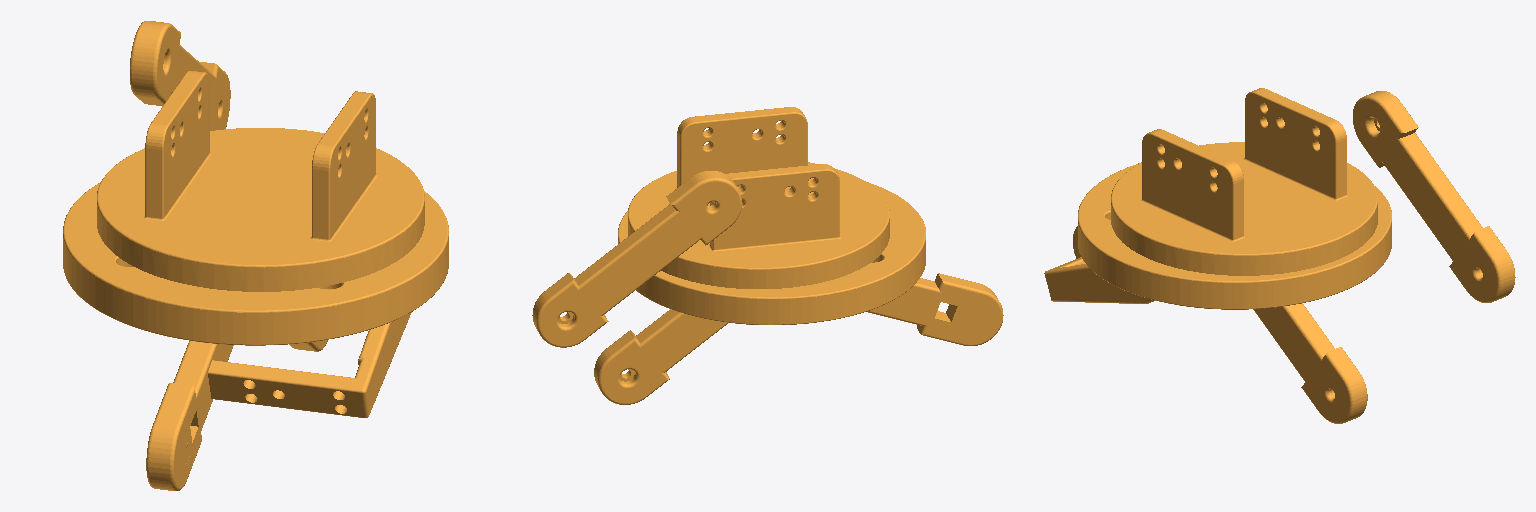
The robot description file, URDF, robot "atom_newurdf":
<?xml version="1.0" encoding="utf-8"?>
<!-- This URDF was automatically created by SolidWorks to URDF Exporter! Originally created by [author] ([email redacted]) 
     Commit Version: 1.5.1-0-g916b5db  Build Version: 1.5.7152.31018
     For more information, please see http://wiki.ros.org/sw_urdf_exporter -->
<robot
  name="atom_newurdf">
  <link
    name="base_link">
    <inertial>
      <origin
        xyz="-2.4727E-05 1.7347E-18 0.0099736"
        rpy="0 0 0" />
      <mass
        value="4.4396" />
      <inertia
        ixx="0.011264"
        ixy="0"
        ixz="-3.9899E-07"
        iyy="0.011256"
        iyz="-1.5376E-19"
        izz="0.022225" />
    </inertial>
    <visual>
      <origin
        xyz="0 0 0"
        rpy="0 0 0" />
      <geometry>
        <mesh
          filename="package://atom_newurdf/meshes/base_link.STL" />
      </geometry>
      <material
        name="acrylic">
        <color
          rgba="1 0.72157 0.32941 1" />
      </material>
    </visual>
    <collision>
      <origin
        xyz="0 0 0"
        rpy="0 0 0" />
      <geometry>
        <mesh
          filename="package://atom_newurdf/meshes/base_link.STL" />
      </geometry>
    </collision>
  </link>
  <link
    name="base2_link">
    <inertial>
      <origin
        xyz="0.0088147 -0.038408 0.045"
        rpy="0 0 0" />
      <mass
        value="3.0365" />
      <inertia
        ixx="0.0062539"
        ixy="-1.7114E-06"
        ixz="9.4868E-20"
        iyy="0.010383"
        iyz="3.9249E-20"
        izz="0.0054148" />
    </inertial>
    <visual>
      <origin
        xyz="0 72 -45"
        rpy="0 0 0" />
      <geometry>
        <mesh
          filename="package://atom_newurdf/meshes/base2_link.STL" />
      </geometry>
      <material
        name="acrylic">
        <color
          rgba="1 0.72157 0.32941 1" />
      </material>
    </visual>
    <collision>
      <origin
        xyz="0 0 0"
        rpy="0 0 0" />
      <geometry>
        <mesh
          filename="package://atom_newurdf/meshes/base2_link.STL" />
      </geometry>
    </collision>
  </link>
  <joint
    name="base2_joint"
    type="revolute">
    <origin
      xyz="-0.037359 0.026585 0.072"
      rpy="1.5708 0 0.7592" />
    <parent
      link="base_link" />
    <child
      link="base2_link" />
    <axis
      xyz="0 0 1" />
    <limit
      lower="-3.141"
      upper="3.141"
      effort="10"
      velocity="1" />
  </joint>
  <link
    name="shoulder2elbow1_link">
    <inertial>
      <origin
        xyz="-0.06 0 -0.0022"
        rpy="0 0 0" />
      <mass
        value="0.53191" />
      <inertia
        ixx="6.1002E-05"
        ixy="1.3214E-19"
        ixz="-1.5185E-06"
        iyy="0.0011553"
        iyz="-4.0658E-20"
        izz="0.0011967" />
    </inertial>
    <visual>
      <origin
        xyz="0 100 75"
        rpy="0 0 0" />
      <geometry>
        <mesh
          filename="package://atom_newurdf/meshes/shoulder2elbow1_link.STL" />
      </geometry>
      <material
        name="acrylic">
        <color
          rgba="1 0.72157 0.32941 1" />
      </material>
    </visual>
    <collision>
      <origin
        xyz="0 0 0"
        rpy="0 0 0" />
      <geometry>
        <mesh
          filename="package://atom_newurdf/meshes/shoulder2elbow1_link.STL" />
      </geometry>
    </collision>
  </link>
  <joint
    name="shoulder2elbow1_joint"
    type="revolute">
    <origin
      xyz="-0.097098 0.070512 0.0753"
      rpy="3.1416 0 2.5135" />
    <parent
      link="base2_link" />
    <child
      link="shoulder2elbow1_link" />
    <axis
      xyz="0 0 -1" />
    <limit
      lower="-3.141"
      upper="3.141"
      effort="10"
      velocity="1" />
  </joint>
  <link
    name="elbow2twist1_link">
    <inertial>
      <origin
        xyz="0.059349 3.2473E-11 0.0075"
        rpy="0 0 0" />
      <mass
        value="0.6" />
      <inertia
        ixx="7.6234E-05"
        ixy="-8.5501E-13"
        ixz="6.0719E-13"
        iyy="0.002212"
        iyz="1.6854E-14"
        izz="0.0022649" />
    </inertial>
    <visual>
      <origin
        xyz="0 0 0"
        rpy="0 0 0" />
      <geometry>
        <mesh
          filename="package://atom_newurdf/meshes/elbow2twist1_link.STL" />
      </geometry>
      <material
        name="acrylic">
        <color
          rgba="1 0.72157 0.32941 1" />
      </material>
    </visual>
    <collision>
      <origin
        xyz="0 0 0"
        rpy="0 0 0" />
      <geometry>
        <mesh
          filename="package://atom_newurdf/meshes/elbow2twist1_link.STL" />
      </geometry>
    </collision>
  </link>
  <joint
    name="elboe2twist1_joint"
    type="continuous">
    <origin
      xyz="0 0 0.0053"
      rpy="0 0 -0.98956" />
    <parent
      link="shoulder2elbow1_link" />
    <child
      link="elbow2twist1_link" />
    <axis
      xyz="0 0 1" />
    <limit
      lower="-3.141"
      upper="3.141"
      effort="10"
      velocity="1" />
  </joint>
  <link
    name="twist_link">
    <inertial>
      <origin
        xyz="9.3271E-09 0.039066 0.037138"
        rpy="0 0 0" />
      <mass
        value="0.54181" />
      <inertia
        ixx="0.001388"
        ixy="2.0288E-10"
        ixz="-5.7174E-10"
        iyy="0.00077126"
        iyz="7.8041E-06"
        izz="0.0006648" />
    </inertial>
    <visual>
      <origin
        xyz="0 0 0"
        rpy="0 0 0" />
      <geometry>
        <mesh
          filename="package://atom_newurdf/meshes/twist_link.STL" />
      </geometry>
      <material
        name="acrylic">
        <color
          rgba="1 0.72157 0.32941 1" />
      </material>
    </visual>
    <collision>
      <origin
        xyz="0 0 0"
        rpy="0 0 0" />
      <geometry>
        <mesh
          filename="package://atom_newurdf/meshes/twist_link.STL" />
      </geometry>
    </collision>
  </link>
  <joint
    name="twist_joint"
    type="continuous">
    <origin
      xyz="0.12 0 0.075"
      rpy="3.1416 0 1.5708" />
    <parent
      link="elbow2twist1_link" />
    <child
      link="twist_link" />
    <axis
      xyz="0 0 -1" />
    <limit
      lower="0"
      upper="0"
      effort="10"
      velocity="1" />
  </joint>
  <link
    name="shoulder2elbow2.2_link">
    <inertial>
      <origin
        xyz="-0.06 -2.7756E-17 -0.0011476"
        rpy="0 0 0" />
      <mass
        value="0.53191" />
      <inertia
        ixx="6.1001E-05"
        ixy="1.6432E-19"
        ixz="-4.3093E-20"
        iyy="0.0011553"
        iyz="-1.0164E-20"
        izz="0.0011967" />
    </inertial>
    <visual>
      <origin
        xyz="0 0 0"
        rpy="0 0 0" />
      <geometry>
        <mesh
          filename="package://atom_newurdf/meshes/shoulder2elbow2.2_link.STL" />
      </geometry>
      <material
        name="acrylic">
        <color
          rgba="1 0.72157 0.32941 1" />
      </material>
    </visual>
    <collision>
      <origin
        xyz="0 0 0"
        rpy="0 0 0" />
      <geometry>
        <mesh
          filename="package://atom_newurdf/meshes/shoulder2elbow2.2_link.STL" />
      </geometry>
    </collision>
  </link>
  <joint
    name="shoulder2elbow2.2_joint"
    type="revolute">
    <origin
      xyz="-0.097098 0.070512 -0.0136"
      rpy="3.1416 0 2.5135" />
    <parent
      link="base2_link" />
    <child
      link="shoulder2elbow2.2_link" />
    <axis
      xyz="0 0 -1" />
    <limit
      lower="-3.141"
      upper="3.141"
      effort="10"
      velocity="1" />
  </joint>
  <link
    name="elbow2twist2.2_link">
    <inertial>
      <origin
        xyz="0.058961 0 0.0075"
        rpy="0 0 0" />
      <mass
        value="0.6" />
      <inertia
        ixx="7.7799E-05"
        ixy="-2.2023E-20"
        ixz="1.2769E-19"
        iyy="0.0023482"
        iyz="5.0822E-20"
        izz="0.0024014" />
    </inertial>
    <visual>
      <origin
        xyz="0 0 0"
        rpy="0 0 0" />
      <geometry>
        <mesh
          filename="package://atom_newurdf/meshes/elbow2twist2.2_link.STL" />
      </geometry>
      <material
        name="acrylic">
        <color
          rgba="1 0.72157 0.32941 1" />
      </material>
    </visual>
    <collision>
      <origin
        xyz="0 0 0"
        rpy="0 0 0" />
      <geometry>
        <mesh
          filename="package://atom_newurdf/meshes/elbow2twist2.2_link.STL" />
      </geometry>
    </collision>
  </link>
  <joint
    name="elbow2twist2.2_joint"
    type="continuous">
    <origin
      xyz="0 0 -0.0236"
      rpy="0 0 -0.98956" />
    <parent
      link="shoulder2elbow2.2_link" />
    <child
      link="elbow2twist2.2_link" />
    <axis
      xyz="0 0 -1" />
    <limit
      lower="-3.141"
      upper="3.141"
      effort="10"
      velocity="1" />
  </joint>
</robot>

--- What the picture shows (computed from the rendered views, not written in the file) ---
Views: 3 orthographic renders of the robot side by side, from view 1: azimuth 30°, elevation 25°; view 2: azimuth 150°, elevation 25°; view 3: azimuth 270°, elevation 25°.
Model atom_newurdf with 7 links and 6 joints (3 revolute, 3 continuous), rooted at base_link, posed every joint at zero.
Visible links, largest first — view 1: base2_link, base_link, twist_link, shoulder2elbow1_link, elbow2twist1_link, elbow2twist2.2_link; view 2: base2_link, shoulder2elbow1_link, base_link, shoulder2elbow2.2_link, elbow2twist2.2_link; view 3: base2_link, base_link, shoulder2elbow1_link, shoulder2elbow2.2_link, twist_link.
Link boxes in pixels (x1,y1,x2,y2): base2_link: [97, 71, 424, 291]; base_link: [63, 182, 448, 345]; twist_link: [208, 312, 411, 417]; shoulder2elbow1_link: [130, 21, 230, 130]; elbow2twist1_link: [149, 341, 233, 490]; elbow2twist2.2_link: [146, 341, 210, 490]; base2_link: [628, 107, 889, 288]; shoulder2elbow1_link: [532, 171, 741, 347]; base_link: [618, 182, 925, 324]; shoulder2elbow2.2_link: [594, 309, 727, 404]; elbow2twist2.2_link: [867, 274, 1003, 345]; base2_link: [1111, 88, 1377, 275]; base_link: [1078, 162, 1391, 309]; shoulder2elbow1_link: [1353, 91, 1515, 302]; shoulder2elbow2.2_link: [1253, 303, 1367, 423]; twist_link: [1044, 257, 1154, 303].
Size in the robot's own frame: 219 by 299 by 191 metres.
Meshes: 7 distinct files referenced, 7 mesh visuals loaded (7 binary STL).